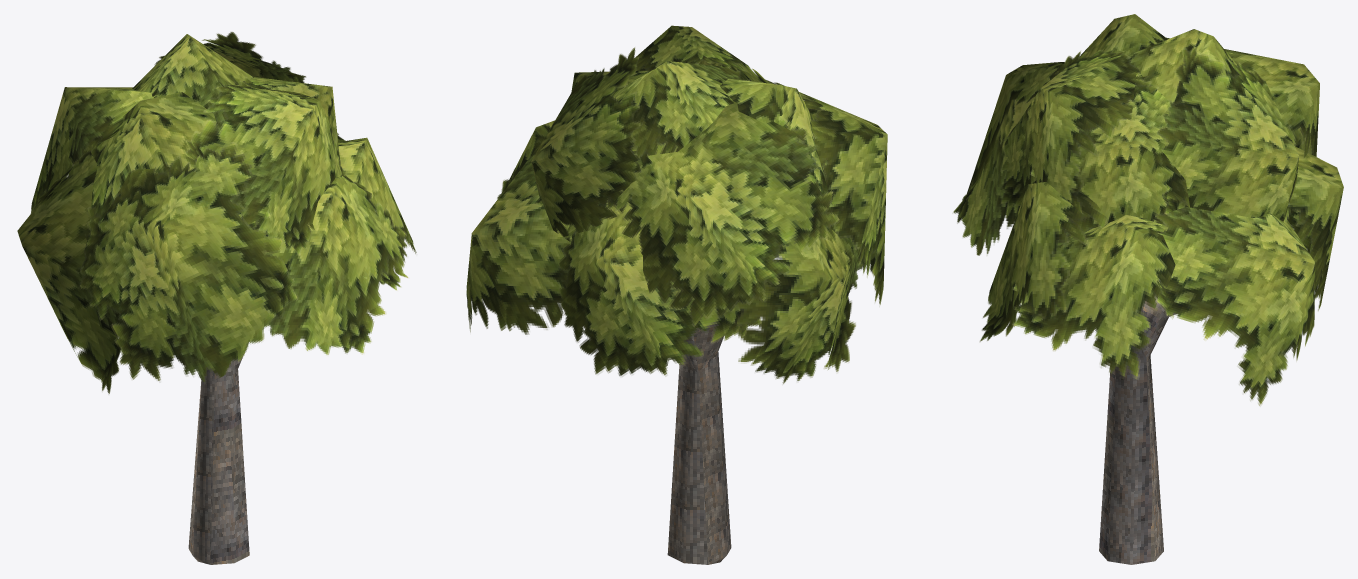
Rendered from pohon.glb.
3 views of the same model, side by side, from view 1: azimuth 30°, elevation 25°; view 2: azimuth 150°, elevation 25°; view 3: azimuth 270°, elevation 25° (orthographic). The views are drawn at different scales.
Parts seen in each view (by area): view 1: pohon; view 2: pohon; view 3: pohon.
Boxes of the visible parts, x1=… form: pohon: x1=17, y1=32, x2=416, y2=564; pohon: x1=466, y1=25, x2=887, y2=564; pohon: x1=952, y1=14, x2=1343, y2=564.
Size of the model in its own units: 6.6 by 8.33 by 5.7.
2 materials, 2 textured.
